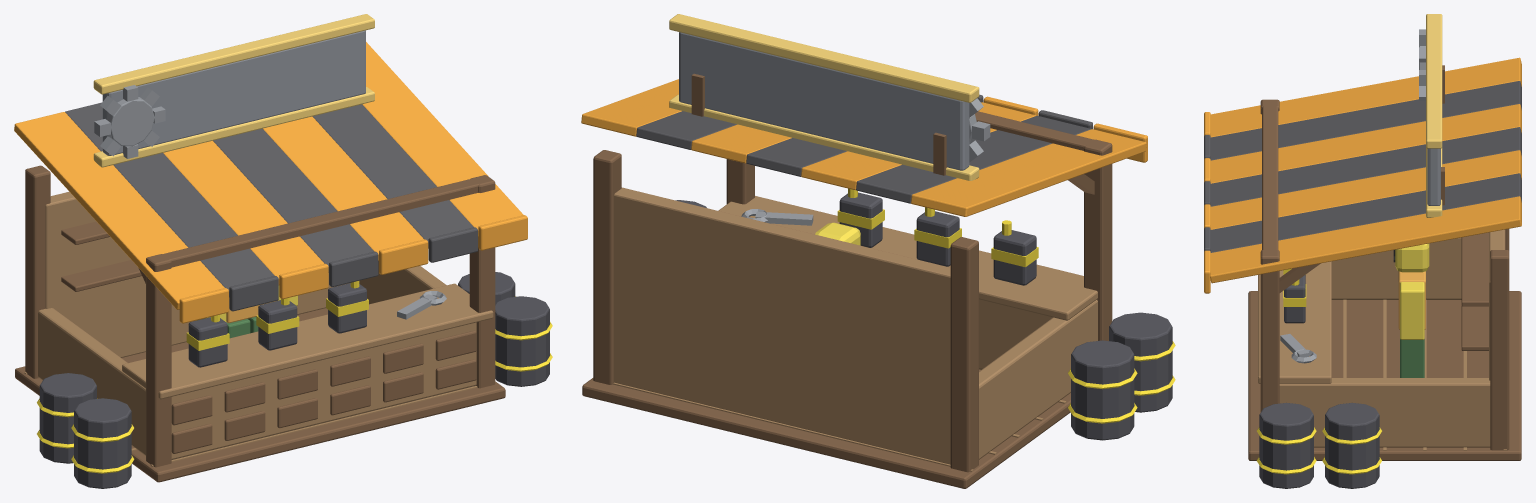
The model's file is puesto_equipamientos.fbx.
3 renders of one model, left to right at view 1: azimuth 30°, elevation 25°; view 2: azimuth 150°, elevation 25°; view 3: azimuth 270°, elevation 25°, orthographic. The views are drawn at different scales.
Parts seen in each view (by area): view 1: Puesto, Cartel, Vendedor; view 2: Puesto, Cartel, Vendedor; view 3: Puesto, Vendedor, Cartel.
Boxes of the visible parts, x1,y1,x2,y2 form: Puesto: [14, 14, 552, 488]; Cartel: [102, 30, 365, 155]; Vendedor: [196, 285, 297, 338]; Puesto: [581, 14, 1175, 488]; Cartel: [679, 32, 969, 170]; Vendedor: [815, 222, 860, 245]; Puesto: [1204, 14, 1521, 488]; Vendedor: [1393, 243, 1429, 377]; Cartel: [1427, 148, 1440, 205].
Size of the model in its own units: 950 by 614 by 581.
Materials: 1 (1 with a texture image).
